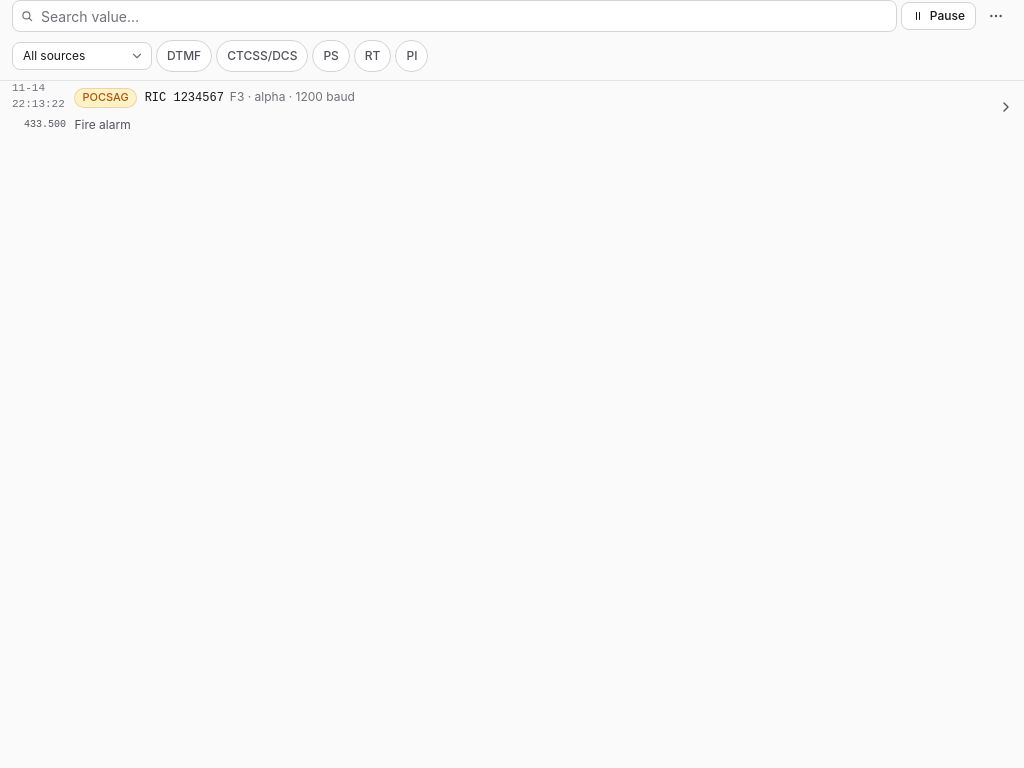
Test: opens the details of a plugin event with its fields and raw data
Click the button named "Event details".
click(1006, 107)  # box [992,93,1020,121]
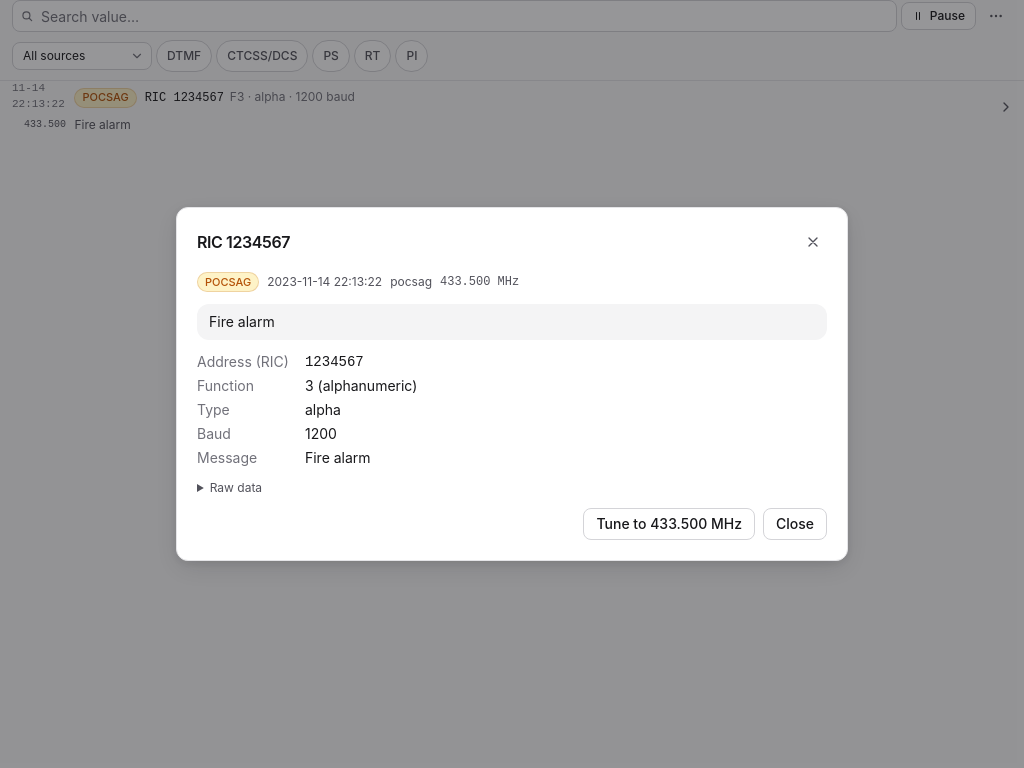
expect the dialog shows "Address (RIC)": met, box [197,353,289,370]
expect the dialog shows "1234567": met, box [305,354,364,370]
expect the dialog shows "alphanumeric": met, box [305,377,417,394]
Click the button named "Close".
click(813, 242)  # box [799,228,827,256]
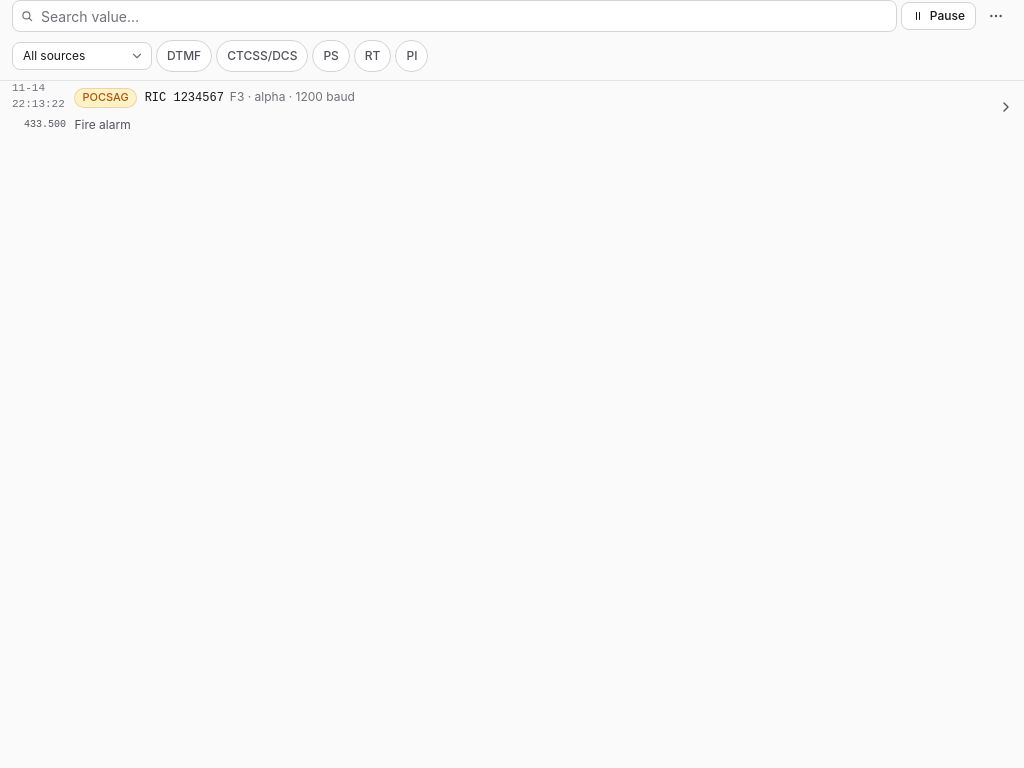
expect the dialog is gone: met
